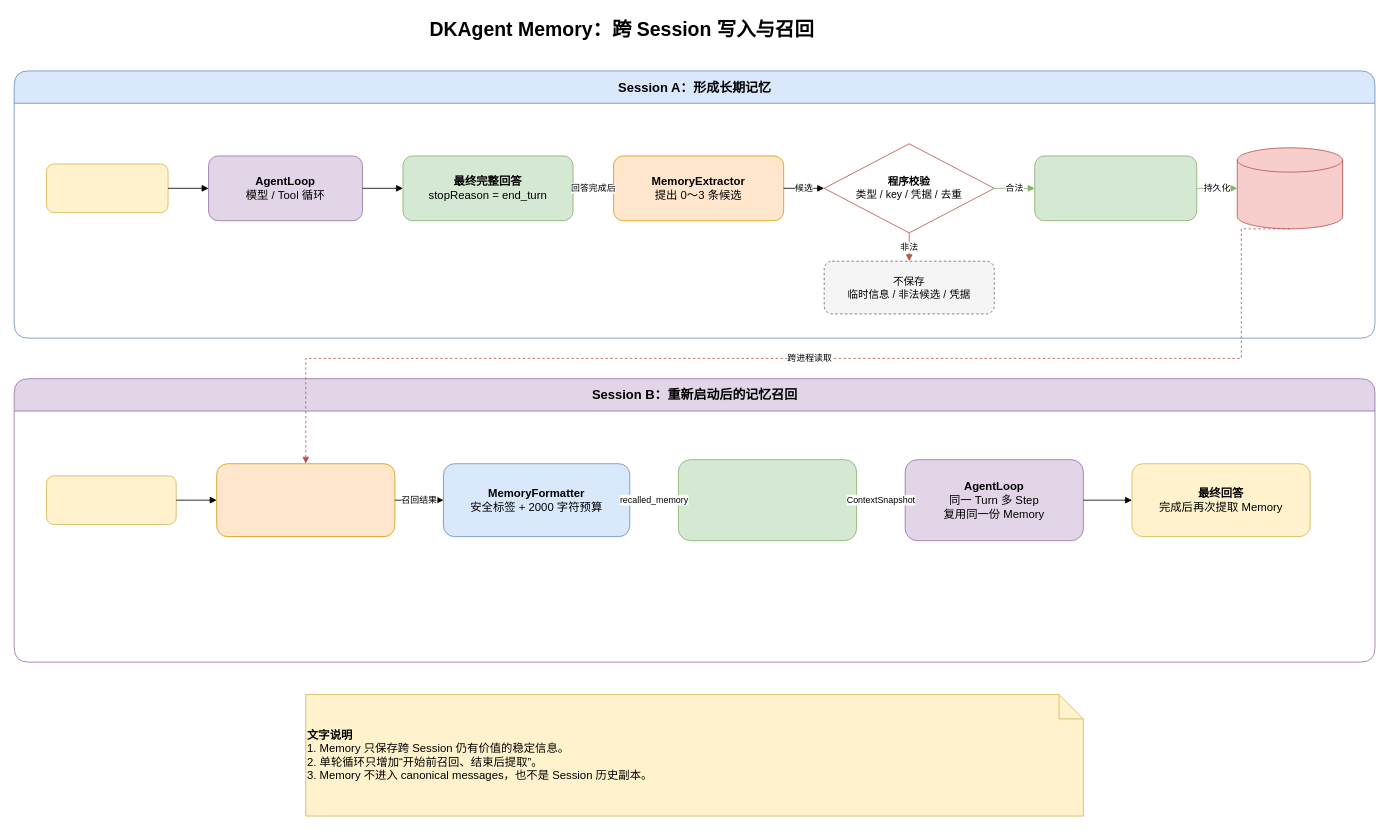
Image size: 1389x830. Some labels were removed from this diagram. Each missing label, with the centre of its shape:
ContextManager 注入 System Prompt 并计算 Token: the point at 767,500
MemoryRetriever 读取最近 100 条并筛选: the point at 305,500
MemoryStore.upsert 显式记忆优先: the point at 1115,188
SQLite .dkagent/memory.db: the point at 1289,188
新用户输入: the point at 111,499
用户输入: the point at 107,188
